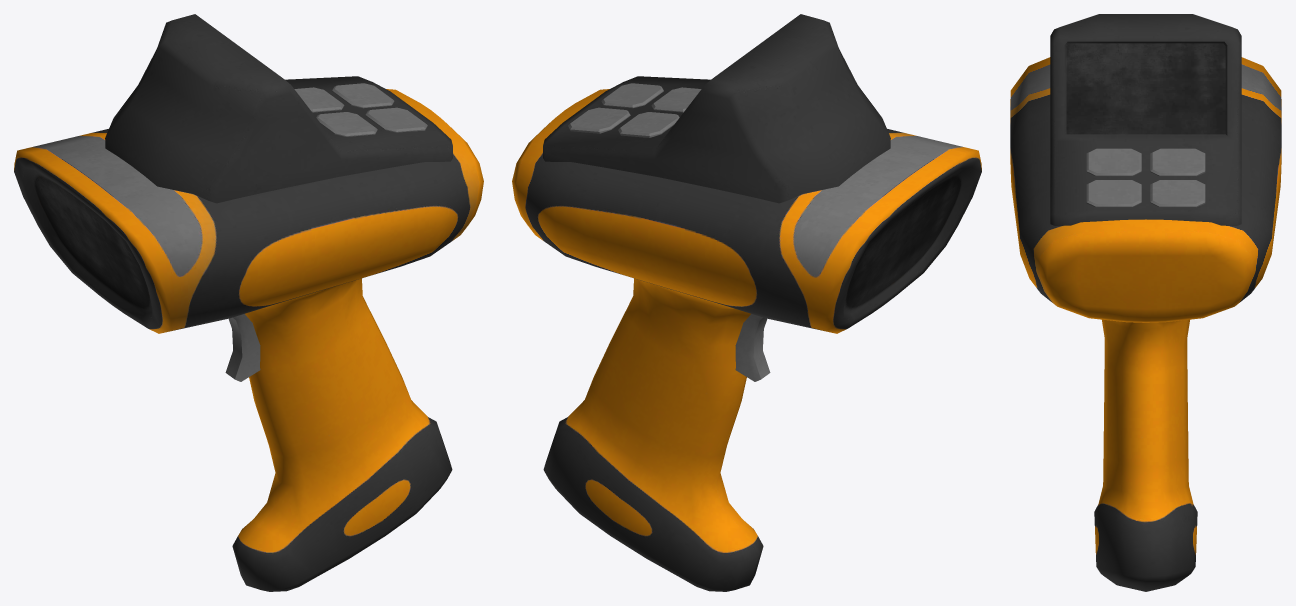
The model's file is Skaner.FBX.
The picture shows the model from 3 angles, left to right: view 1: azimuth 30°, elevation 25°; view 2: azimuth 150°, elevation 25°; view 3: azimuth 270°, elevation 25°; orthographic projection. The views are drawn at different scales.
Visible parts, largest first — view 1: Box002; view 2: Box002; view 3: Box002.
Boxes of the visible parts, bbox=[...] form: Box002: bbox=[14, 14, 483, 591]; Box002: bbox=[512, 14, 981, 591]; Box002: bbox=[1010, 14, 1281, 591].
Bounding box in the file's own units: 45.86 × 62.55 × 29.52.
